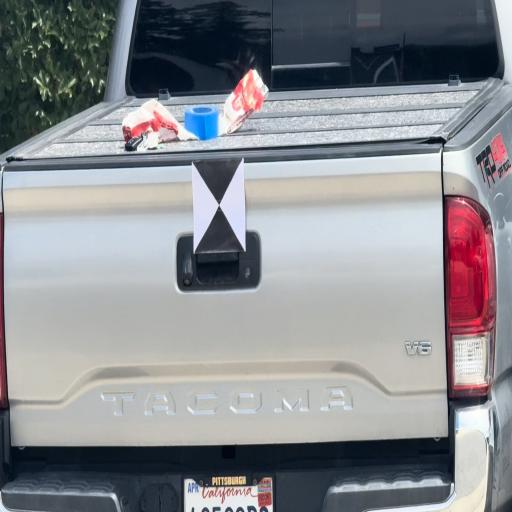target: (194, 161, 246, 251)
